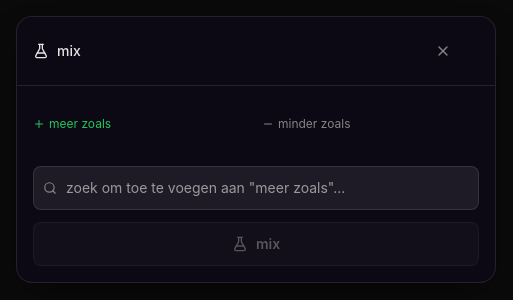
Test: secondary Vibe controls in EN/NL › keeps Blend add/subtract column codes while translating their labels
The width and height of the screenshot is (513, 300).
Expected: the button named "Mixfunctie sluiten" is shown, [435, 29, 479, 73]
Click the button "Minder zoals" at (306, 124), box [262, 102, 350, 146]
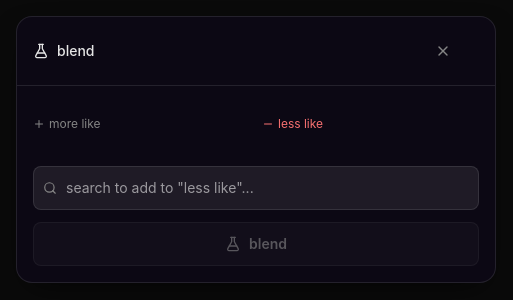
Expected: the button named "Close alchemy" is shown, [435, 29, 479, 73]
Expected: the text "More Like" is shown, [33, 102, 100, 146]
